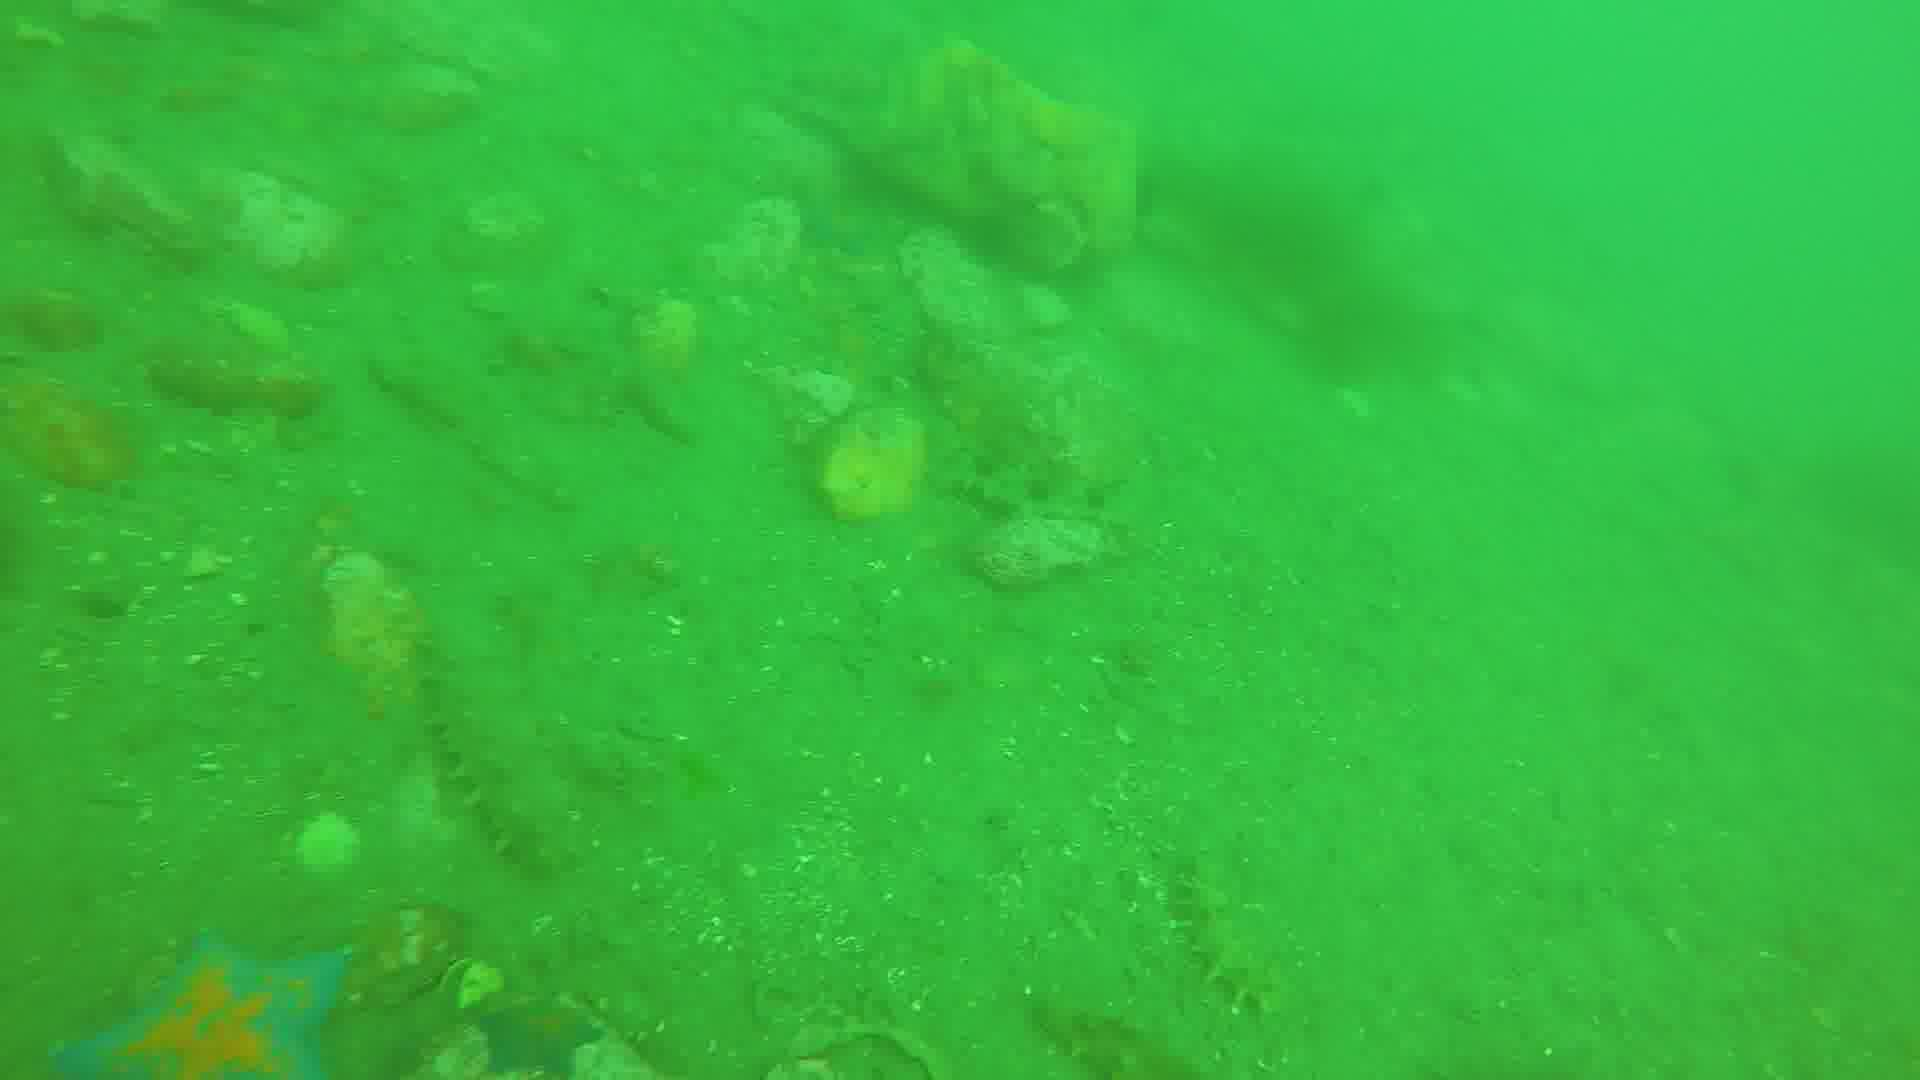holothurian: (414, 613, 572, 873), (1178, 858, 1276, 1015)
starfish: (54, 928, 342, 1080), (798, 190, 876, 258)
